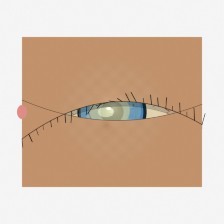corneal_ulcer: (77, 84, 142, 137)
